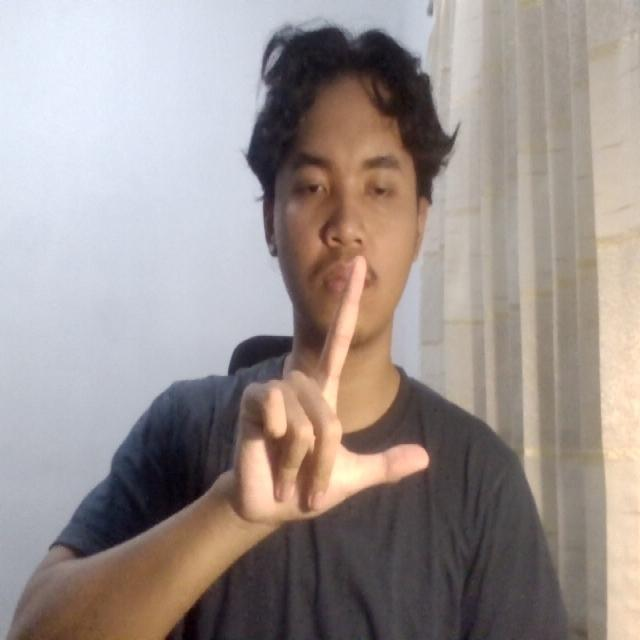I: (204, 249, 442, 536)
